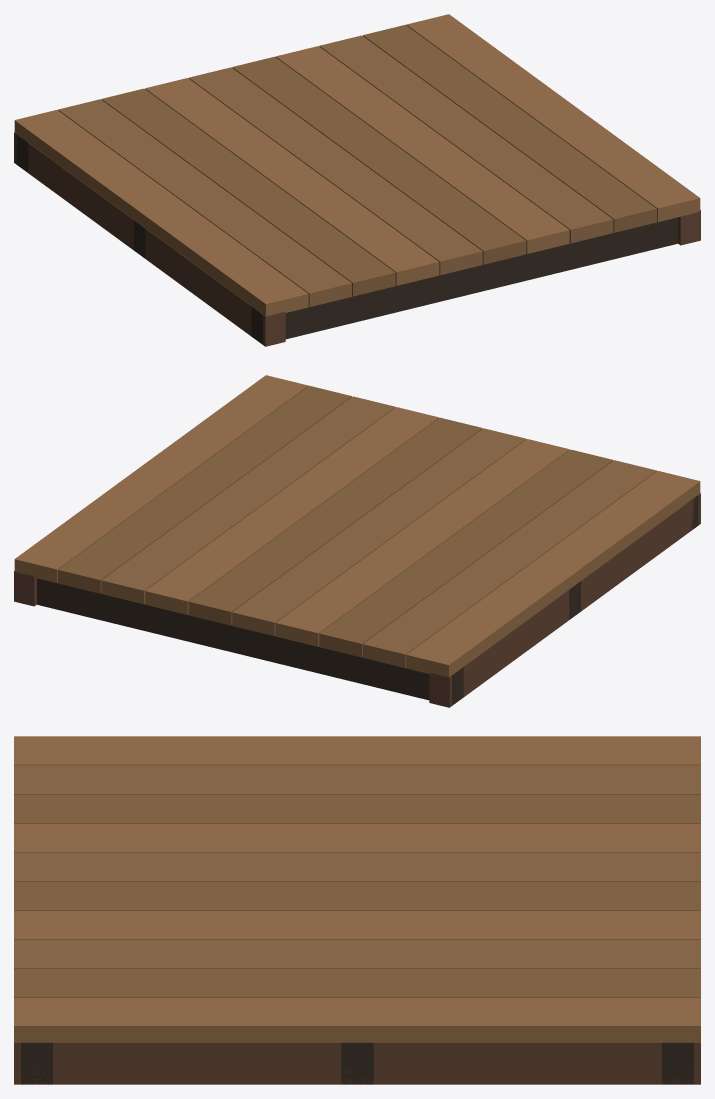
File: Floor_Full_Upper.glb
3 renders of one model, top to bottom at view 1: azimuth 30°, elevation 25°; view 2: azimuth 150°, elevation 25°; view 3: azimuth 270°, elevation 25°, orthographic. The views are drawn at different scales.
Parts seen in each view (by area): view 1: _MeshInstance3D_3823, _MeshInstance3D_3830, _MeshInstance3D_3828, _MeshInstance3D_3826, _MeshInstance3D_3825, _MeshInstance3D_3827, _MeshInstance3D_3829, _MeshInstance3D_3831, _MeshInstance3D_3824, _MeshInstance3D_3832, _MeshInstance3D_3820, _MeshInstance3D_3821 (+1 smaller); view 2: _MeshInstance3D_3823, _MeshInstance3D_3830, _MeshInstance3D_3828, _MeshInstance3D_3826, _MeshInstance3D_3825, _MeshInstance3D_3827, _MeshInstance3D_3829, _MeshInstance3D_3831, _MeshInstance3D_3824, _MeshInstance3D_3832, _MeshInstance3D_3818, _MeshInstance3D_3821 (+1 smaller); view 3: _MeshInstance3D_3832, _MeshInstance3D_3822, _MeshInstance3D_3823, _MeshInstance3D_3824, _MeshInstance3D_3825, _MeshInstance3D_3826, _MeshInstance3D_3827, _MeshInstance3D_3828, _MeshInstance3D_3829, _MeshInstance3D_3830, _MeshInstance3D_3831, _MeshInstance3D_3819 (+2 smaller).
Boxes of the visible parts, box(x1,y1,x2,y2) form: _MeshInstance3D_3823: box(14, 110, 308, 316); _MeshInstance3D_3830: box(319, 35, 613, 243); _MeshInstance3D_3828: box(232, 56, 526, 264); _MeshInstance3D_3826: box(145, 78, 439, 285); _MeshInstance3D_3825: box(101, 88, 395, 296); _MeshInstance3D_3827: box(188, 67, 482, 275); _MeshInstance3D_3829: box(275, 46, 569, 253); _MeshInstance3D_3831: box(363, 24, 656, 232); _MeshInstance3D_3824: box(58, 99, 351, 307); _MeshInstance3D_3832: box(406, 14, 700, 221); _MeshInstance3D_3820: box(251, 217, 677, 344); _MeshInstance3D_3821: box(14, 132, 285, 346); _MeshInstance3D_3823: box(406, 471, 700, 677); _MeshInstance3D_3830: box(101, 396, 395, 604); _MeshInstance3D_3828: box(188, 417, 482, 625); _MeshInstance3D_3826: box(275, 439, 569, 646); _MeshInstance3D_3825: box(319, 449, 613, 657); _MeshInstance3D_3827: box(232, 428, 526, 636); _MeshInstance3D_3829: box(145, 407, 439, 614); _MeshInstance3D_3831: box(58, 385, 351, 593); _MeshInstance3D_3824: box(363, 460, 656, 668); _MeshInstance3D_3832: box(14, 375, 308, 582); _MeshInstance3D_3818: box(37, 578, 463, 705); _MeshInstance3D_3821: box(429, 493, 700, 707); _MeshInstance3D_3832: box(14, 997, 700, 1042); _MeshInstance3D_3822: box(14, 1042, 700, 1084); _MeshInstance3D_3823: box(14, 736, 700, 765); _MeshInstance3D_3824: box(14, 765, 700, 794); _MeshInstance3D_3825: box(14, 794, 700, 823); _MeshInstance3D_3826: box(14, 823, 700, 852); _MeshInstance3D_3827: box(14, 852, 700, 881); _MeshInstance3D_3828: box(14, 881, 700, 910); _MeshInstance3D_3829: box(14, 910, 700, 939); _MeshInstance3D_3830: box(14, 939, 700, 968); _MeshInstance3D_3831: box(14, 968, 700, 997); _MeshInstance3D_3819: box(341, 1042, 373, 1084).
Bounding box in the file's own units: 3 × 0.28 × 3.
